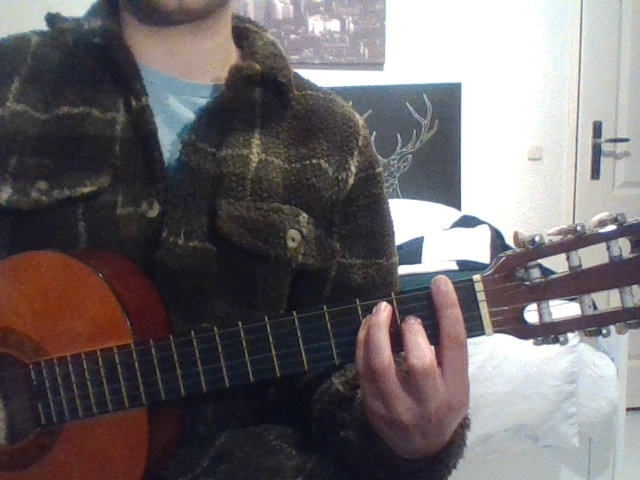F: (332, 267, 505, 477)
